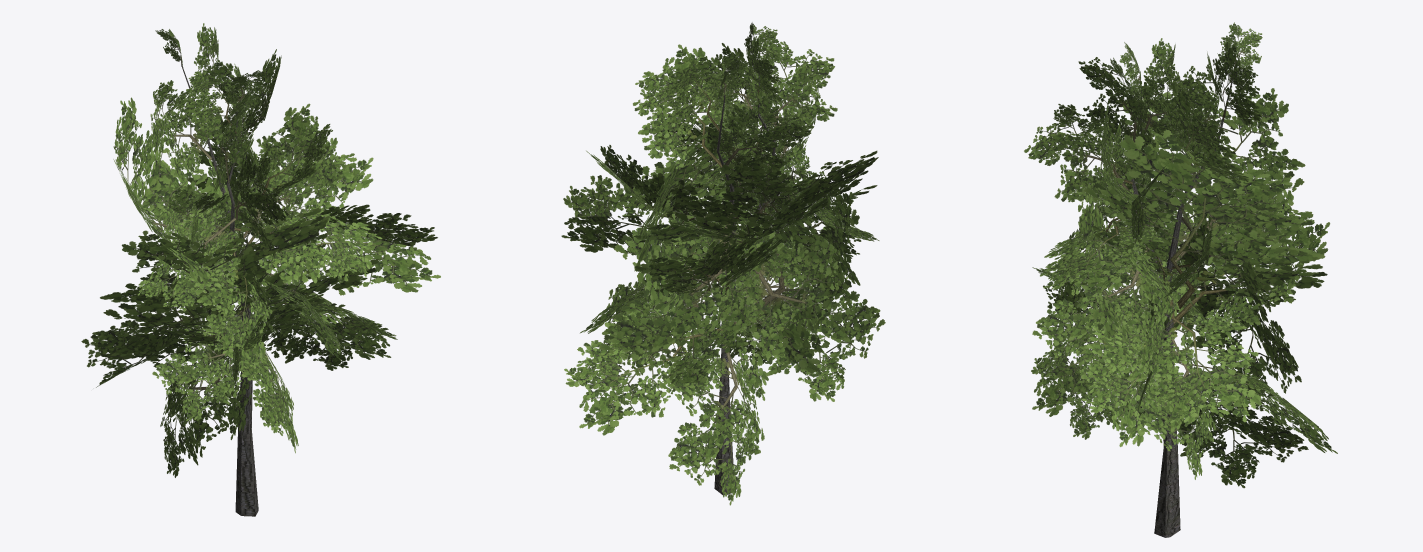
File: tree11.glb
3 renders of one model, left to right at view 1: azimuth 30°, elevation 25°; view 2: azimuth 150°, elevation 25°; view 3: azimuth 270°, elevation 25°, orthographic. The views are drawn at different scales.
Visible parts, largest first — view 1: Tree-03-3; view 2: Tree-03-3; view 3: Tree-03-3.
Boxes of the visible parts, bbox=[...] form: Tree-03-3: bbox=[81, 23, 440, 516]; Tree-03-3: bbox=[561, 22, 885, 505]; Tree-03-3: bbox=[1024, 22, 1337, 537].
Size of the model in its own units: 6.67 by 7.61 by 5.68.
3 materials, 3 textured.
